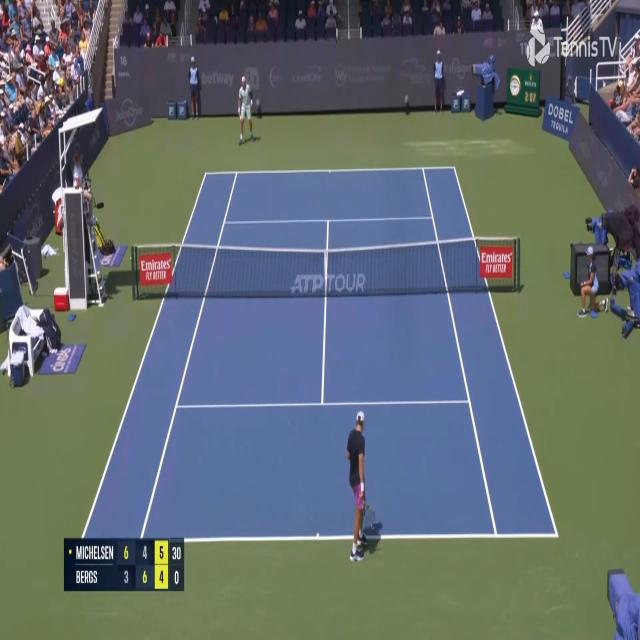tennis-player: (345, 409, 382, 566), (238, 73, 258, 146)
